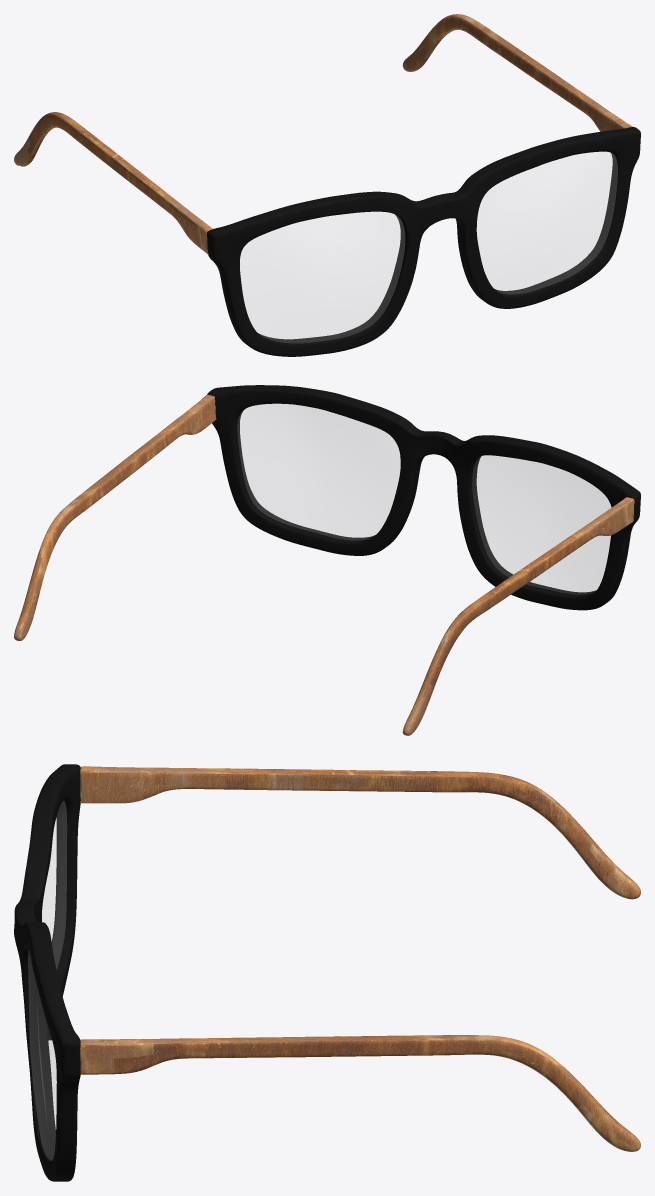
The model's file is specs-wayfarer_lod_low.glb.
3 renders of one model, top to bottom at view 1: azimuth 30°, elevation 25°; view 2: azimuth 150°, elevation 25°; view 3: azimuth 270°, elevation 25°, orthographic. The views are drawn at different scales.
Parts seen in each view (by area): view 1: Glasses_3, Frame_1, Handles_2; view 2: Glasses_3, Frame_1, Handles_2; view 3: Handles_2, Frame_1, Glasses_3.
Part boxes in pixels (x1,y1,x2,y2): Glasses_3: (240, 152, 617, 342); Frame_1: (207, 127, 640, 356); Handles_2: (14, 14, 632, 254); Glasses_3: (237, 404, 610, 594); Frame_1: (207, 385, 640, 610); Handles_2: (14, 394, 634, 735); Handles_2: (80, 766, 640, 1151); Frame_1: (14, 764, 80, 1181); Glasses_3: (28, 801, 66, 1160).
Size of the model in its own units: 1.41 by 0.4825 by 1.33.
Materials: 3 (1 with a texture image).
